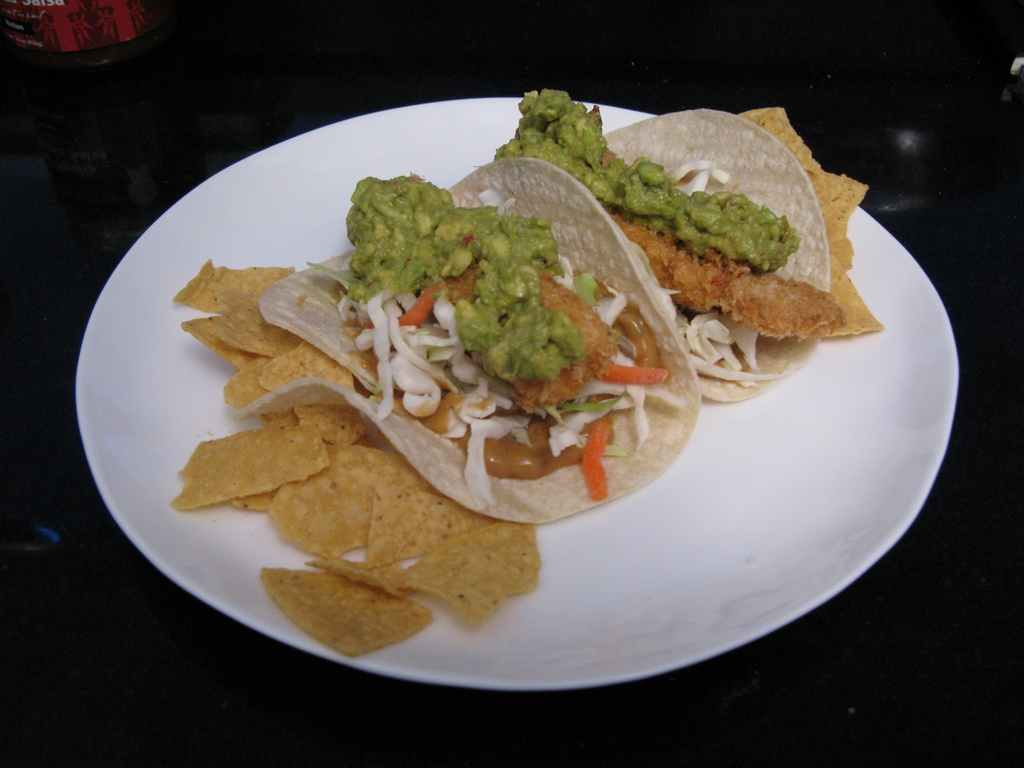taco: (303, 132, 671, 540), (568, 94, 875, 399)
